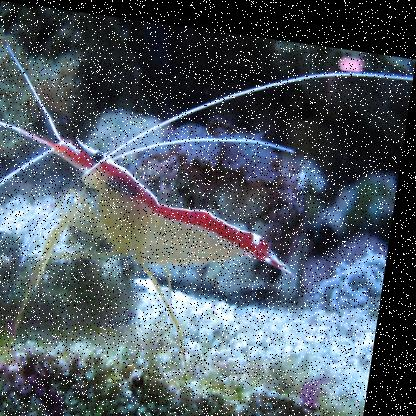shrimp: (40, 132, 313, 279)
